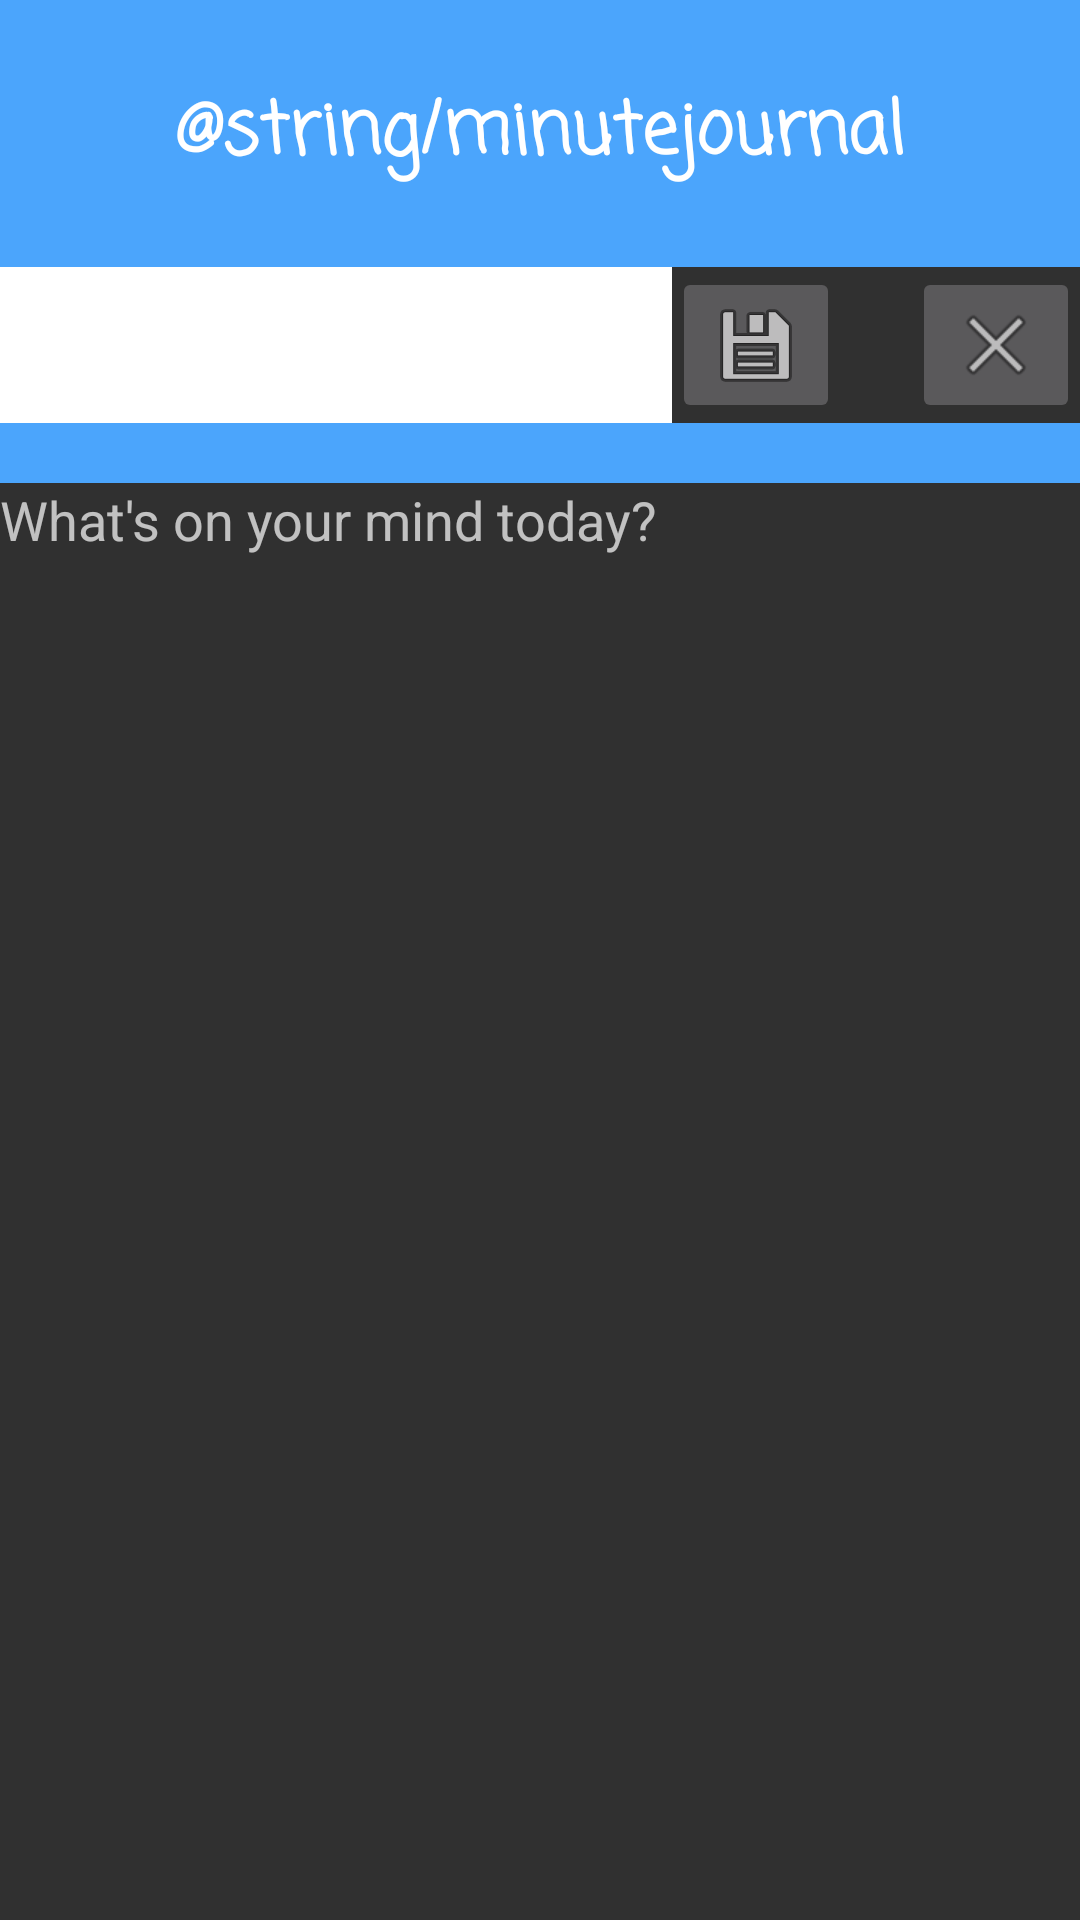

Screen size 1080px×1920px. Icon name, then its center in pixels as [x,y]:
close clear cancel: [996,345]
save: [756,345]
